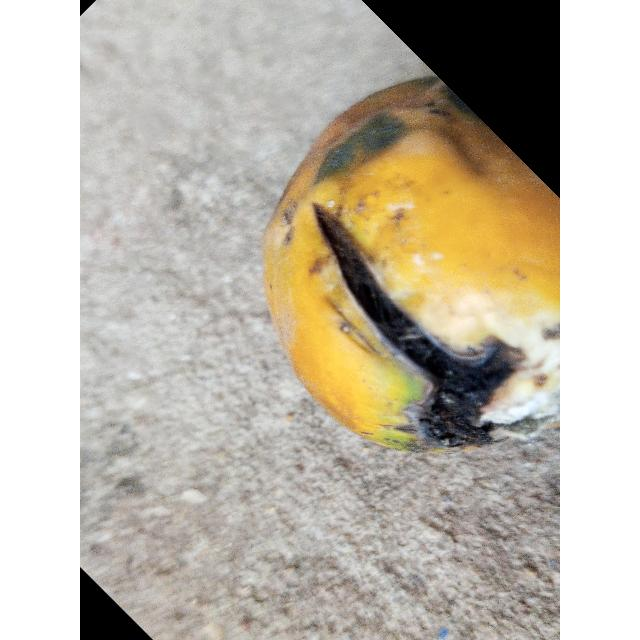damaged: (261, 76, 560, 454)
